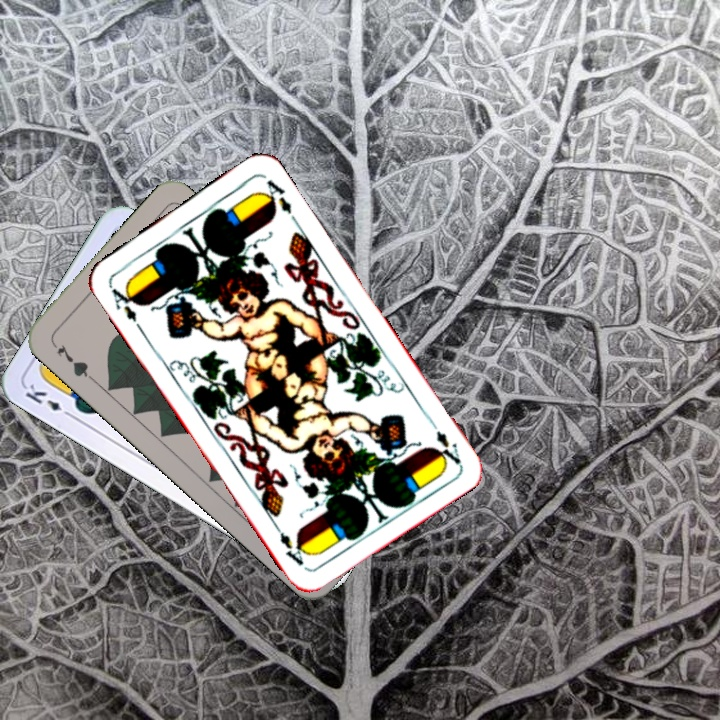EA: (105, 281, 145, 332), (431, 426, 464, 467)
EK: (21, 379, 76, 421)
G7: (48, 338, 96, 383)
